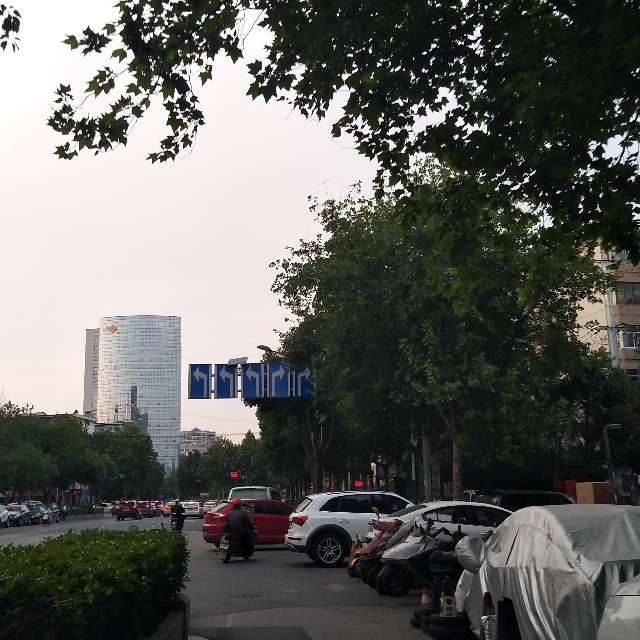left: (241, 364, 262, 397), (219, 362, 236, 399), (191, 364, 209, 397)
right: (272, 365, 287, 398), (295, 368, 312, 394)
